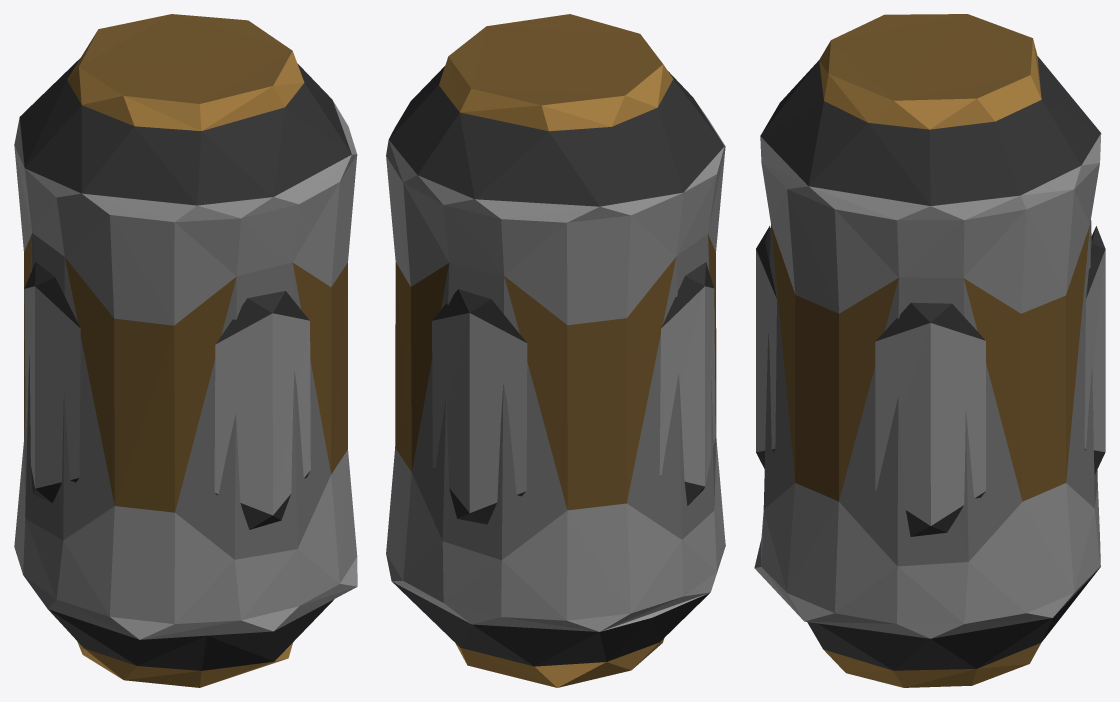
File: kit_capsule.glb
The picture shows the model from 3 angles, left to right: view 1: azimuth 30°, elevation 25°; view 2: azimuth 150°, elevation 25°; view 3: azimuth 270°, elevation 25°; orthographic projection.
Parts seen in each view (by area): view 1: kit_capsule; view 2: kit_capsule; view 3: kit_capsule.
Part boxes in pixels (left/top/right/bottom): kit_capsule: left=14, top=14, right=357, bottom=687; kit_capsule: left=386, top=14, right=725, bottom=687; kit_capsule: left=754, top=14, right=1105, bottom=687.
Bounding box in the file's own units: 0.8768 × 1.63 × 0.8806.
